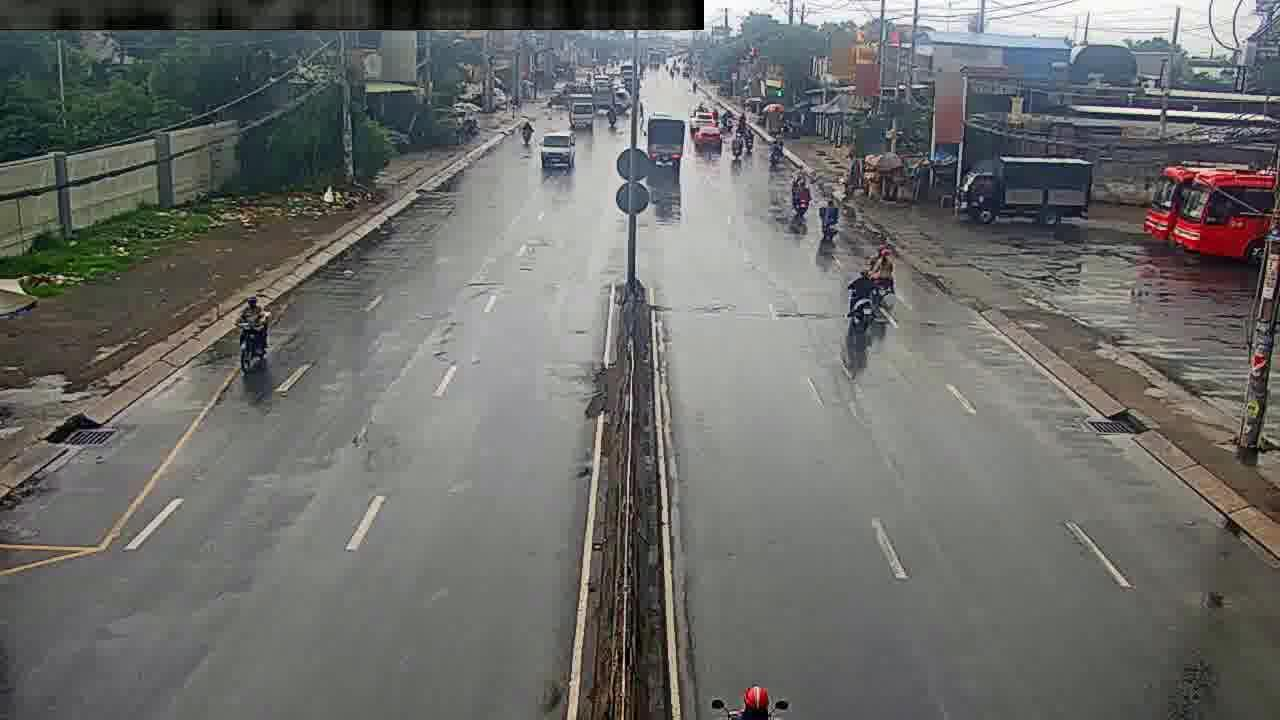14: (540, 133, 574, 172)
8: (645, 113, 686, 171), (571, 93, 593, 132)
motorbike: (238, 290, 272, 372), (850, 266, 881, 337), (874, 232, 898, 294), (793, 179, 812, 227), (818, 198, 836, 245), (766, 134, 780, 171), (737, 126, 751, 162), (520, 117, 533, 142)
